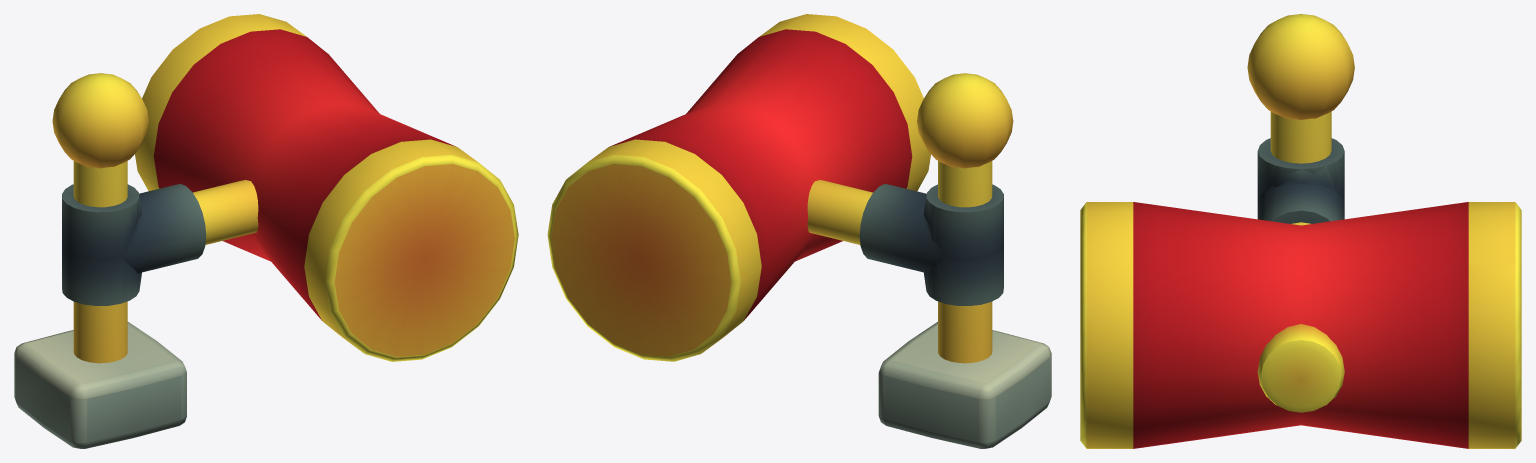
File: Hammer_model.fbx
The picture shows the model from 3 angles, left to right: view 1: azimuth 30°, elevation 25°; view 2: azimuth 150°, elevation 25°; view 3: azimuth 270°, elevation 25°; orthographic projection. The views are drawn at different scales.
Parts seen in each view (by area): view 1: Hammer_03 (×2), Hammer_01, Hammer_02 (×2); view 2: Hammer_03 (×2), Hammer_01, Hammer_02 (×2); view 3: Hammer_03 (×2), Hammer_01, Hammer_02 (×2).
Part boxes in pixels (bbox=[...]): Hammer_03 (×2): bbox=[135, 14, 518, 361]; Hammer_01: bbox=[14, 73, 186, 448]; Hammer_02 (×2): bbox=[62, 180, 258, 305]; Hammer_03 (×2): bbox=[547, 14, 930, 361]; Hammer_01: bbox=[878, 73, 1051, 448]; Hammer_02 (×2): bbox=[807, 180, 1003, 305]; Hammer_03 (×2): bbox=[1080, 202, 1521, 448]; Hammer_01: bbox=[1247, 14, 1354, 163]; Hammer_02 (×2): bbox=[1257, 138, 1344, 225].
Size of the model in its own units: 3.41 by 2.89 by 3.05.
